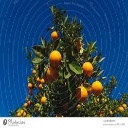orange: (48, 50, 63, 68)
